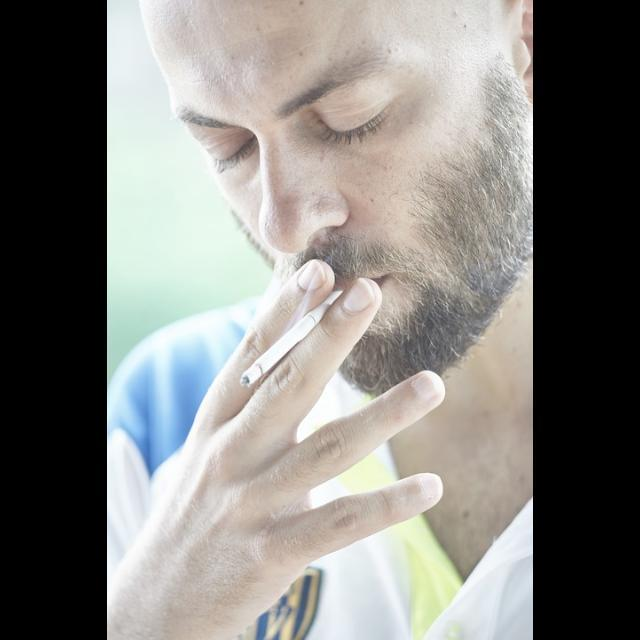rokok: (231, 295, 343, 383)
